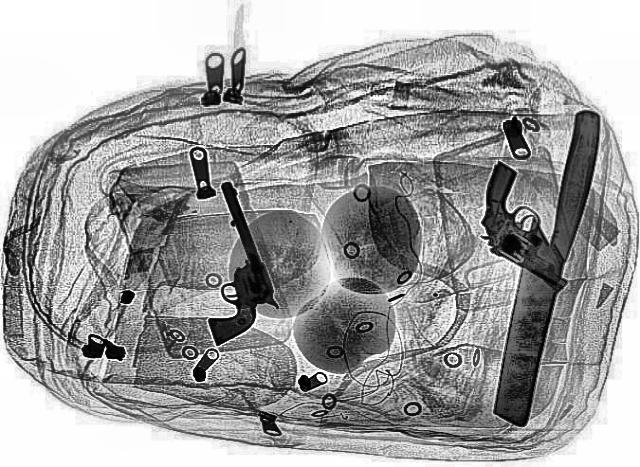Gun: (426, 160, 628, 292), (155, 180, 291, 344)
Knife: (482, 106, 608, 428)
